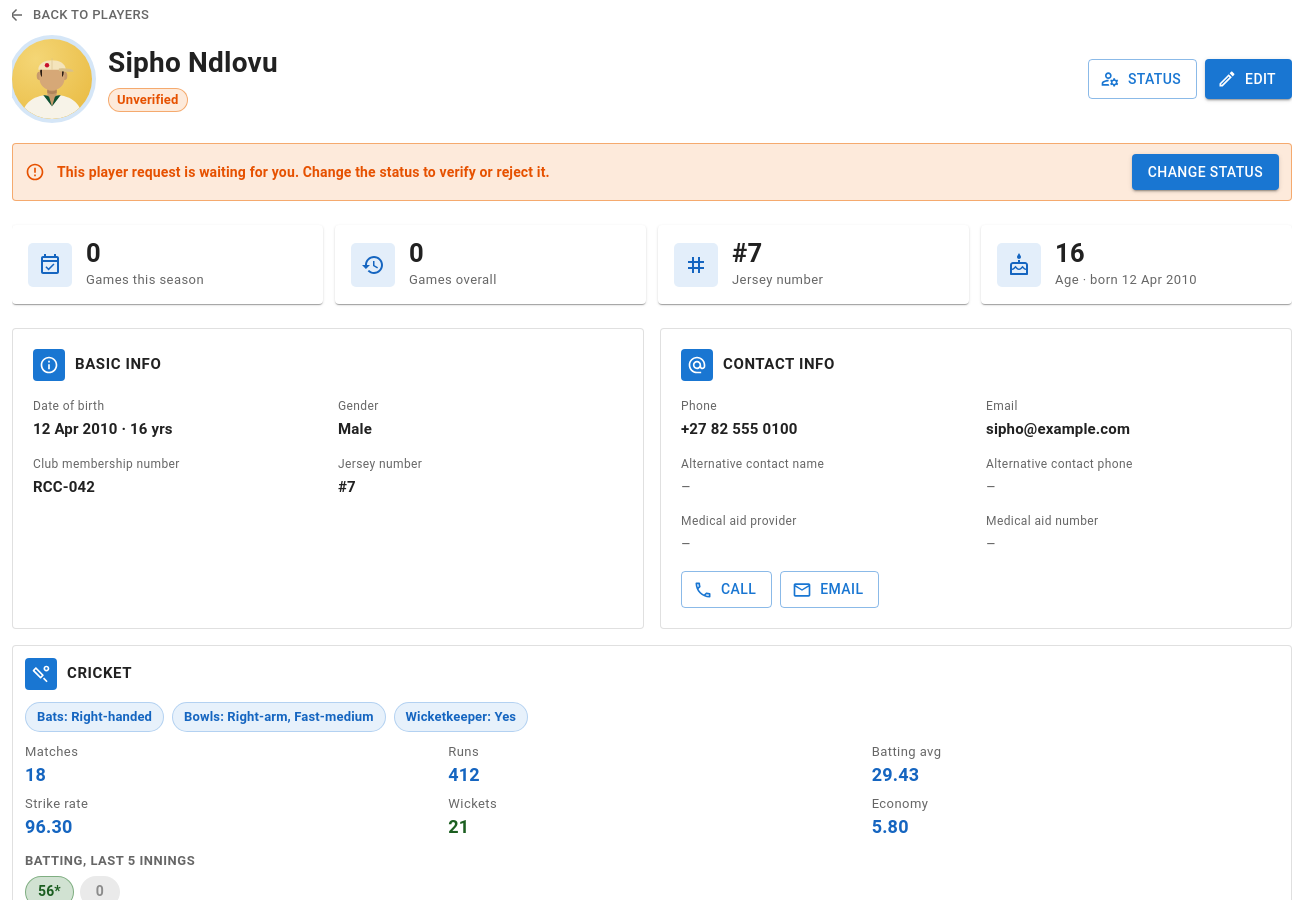
it: PlayerDetailPage › player status › shows an amber banner for an unverified player, with Change status opening the same menu
Expected: the heading "Sipho Ndlovu" is shown, x1=108 y1=46 x2=278 y2=80
Expected: the message with test id "player-status-banner" shows "waiting for you", x1=57 y1=164 x2=550 y2=180
Click the button "Change status" at (1205, 172), box x1=1132 y1=154 x2=1279 y2=190
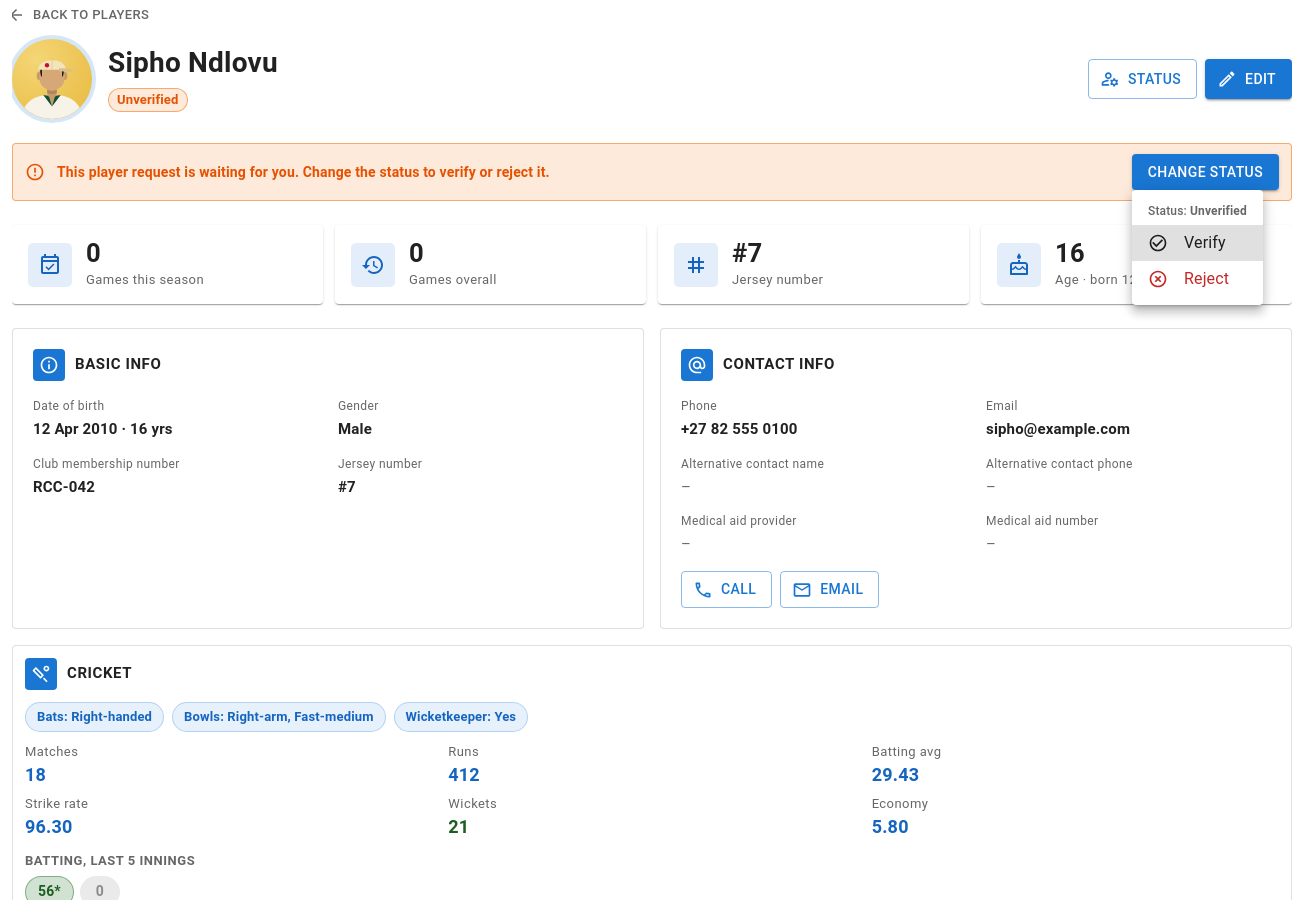
Expected: the menu items read "Verify", "Reject", in this order, x1=1132 y1=225 x2=1263 y2=261; x1=1148 y1=269 x2=1229 y2=289
